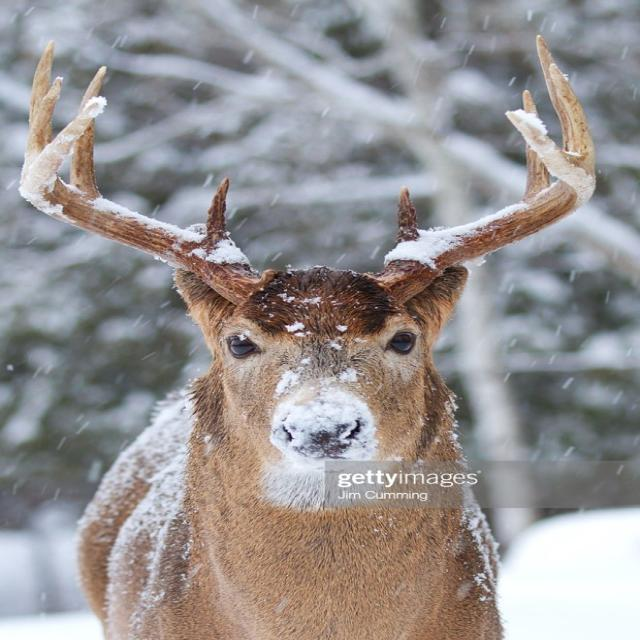L-F: (363, 109, 598, 307)
L-G1: (395, 184, 420, 248)
R-F: (19, 102, 277, 308)
R-G1: (204, 176, 234, 244)
